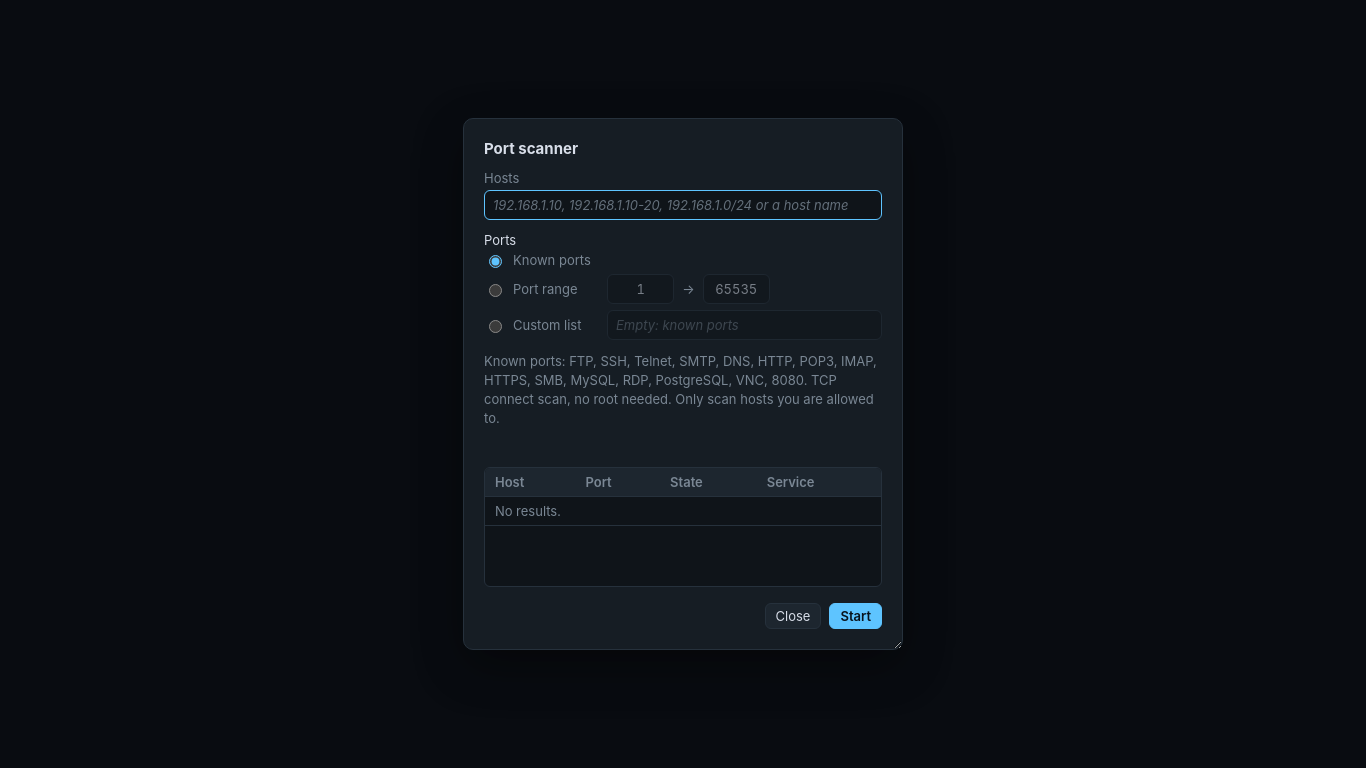
Test case: PortScannerDialog › shows invalid input errors from the backend
The width and height of the screenshot is (1366, 768).
Type "10.0.0.1" into the field labelled "Hosts" at (683, 205), box [484,190,882,220]
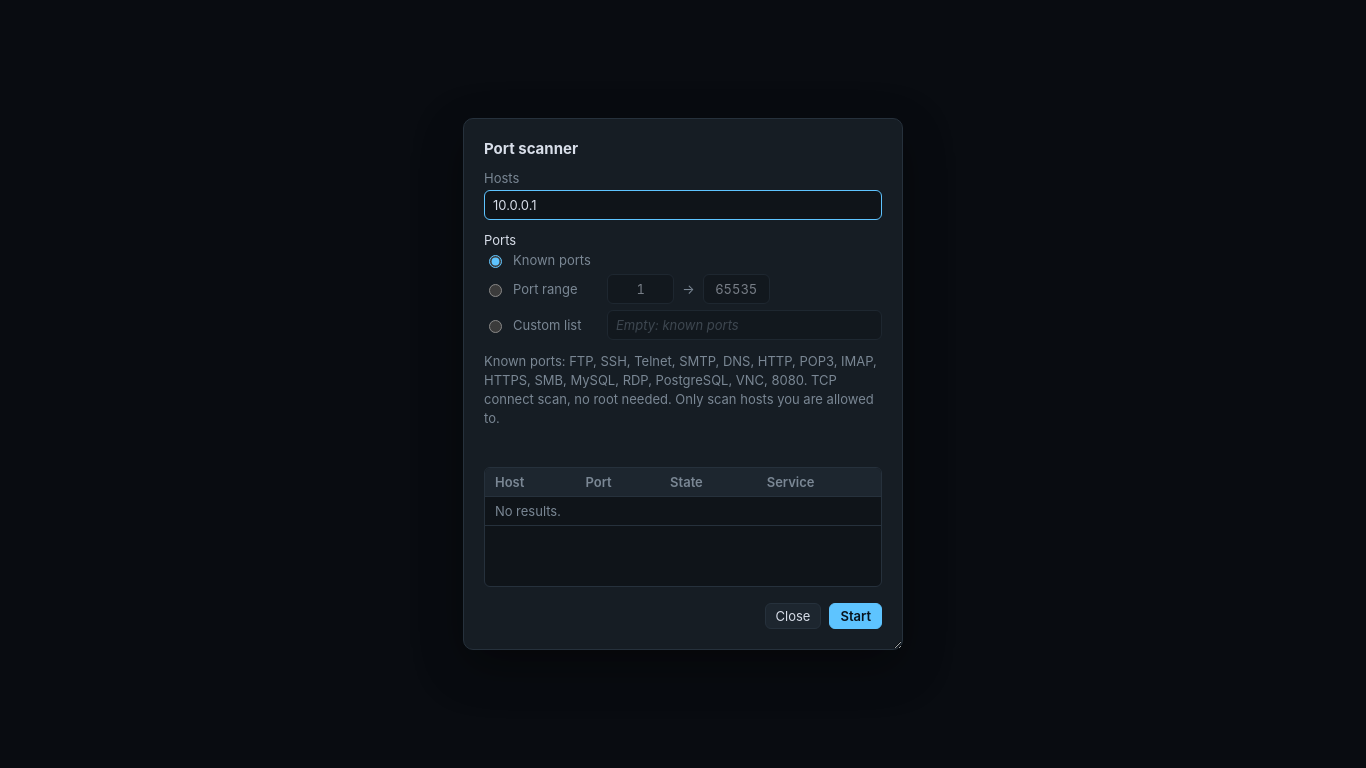
Click the radio button labelled "Custom list" at (496, 326), box [489,320,502,333]
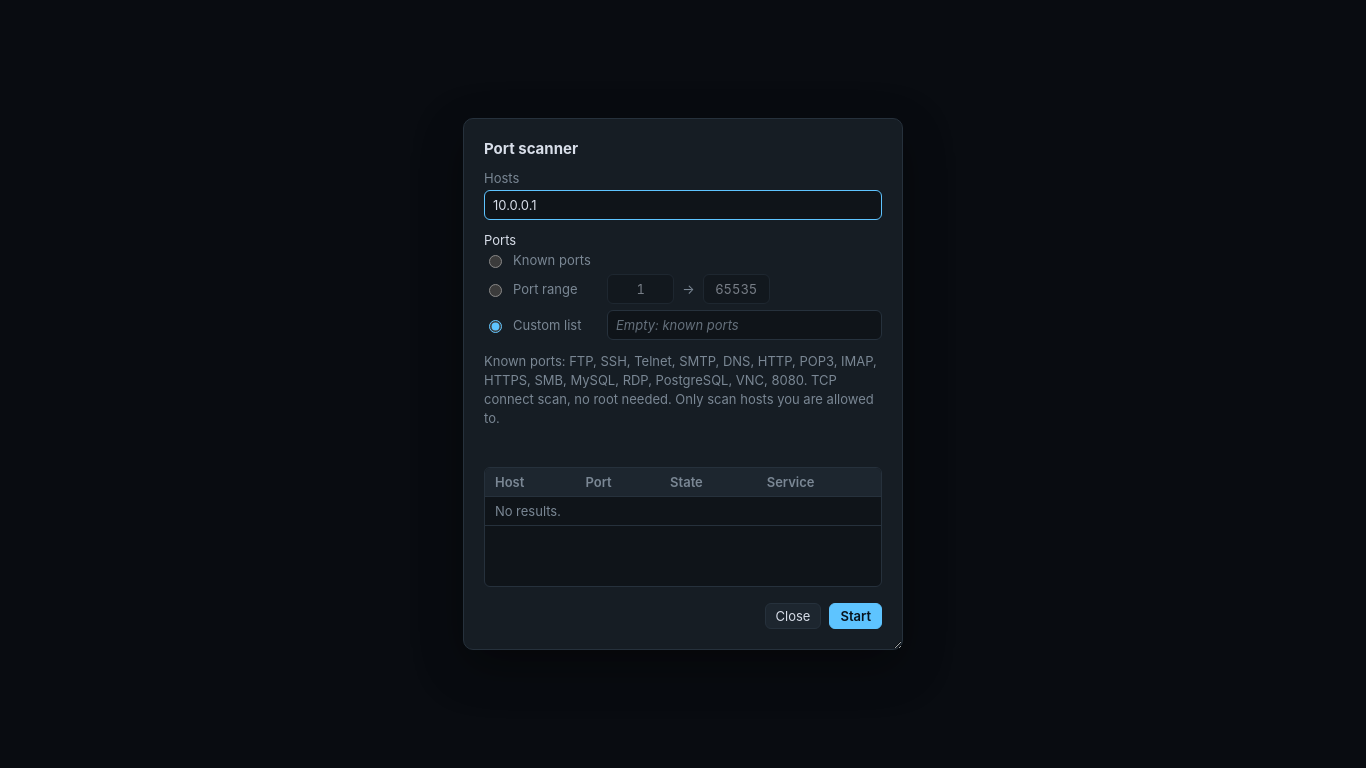
Type "70000" into the field named "Custom ports" at (744, 325), box [607,310,882,340]
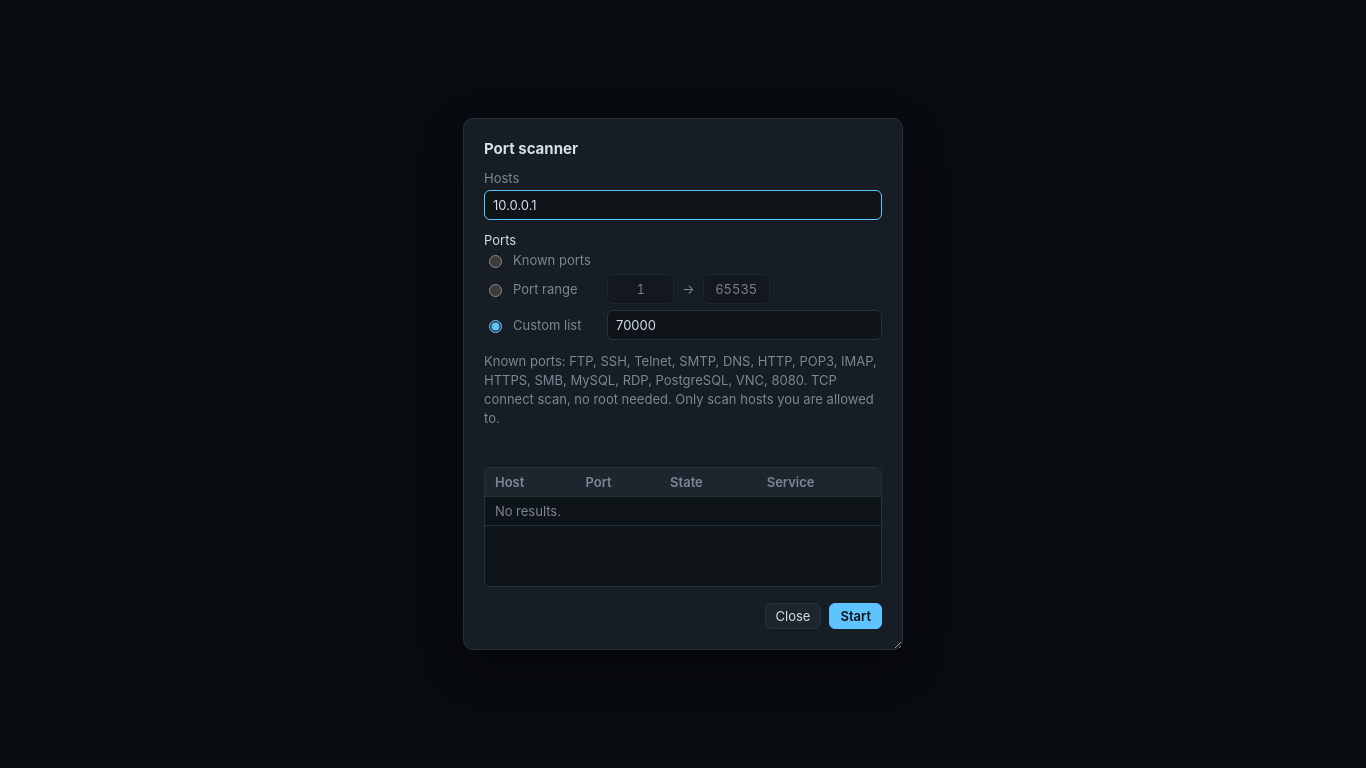
Click the button "Start" at (856, 616), box [829,603,882,629]
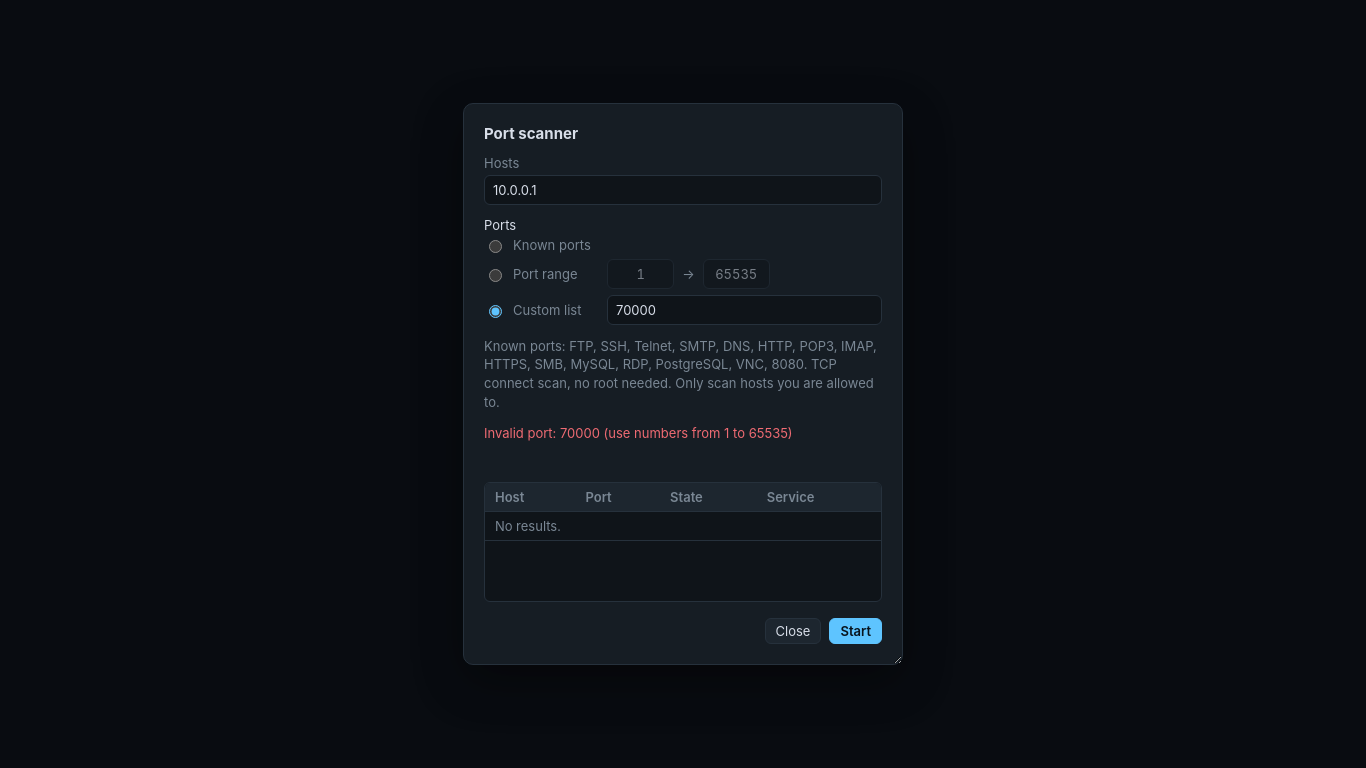
Expected: the button "Start" is shown, [829,618,882,644]
Result: the message "Invalid port: 70000 (use numbers from 1 to 65535)" is shown at [484,425,793,441]
